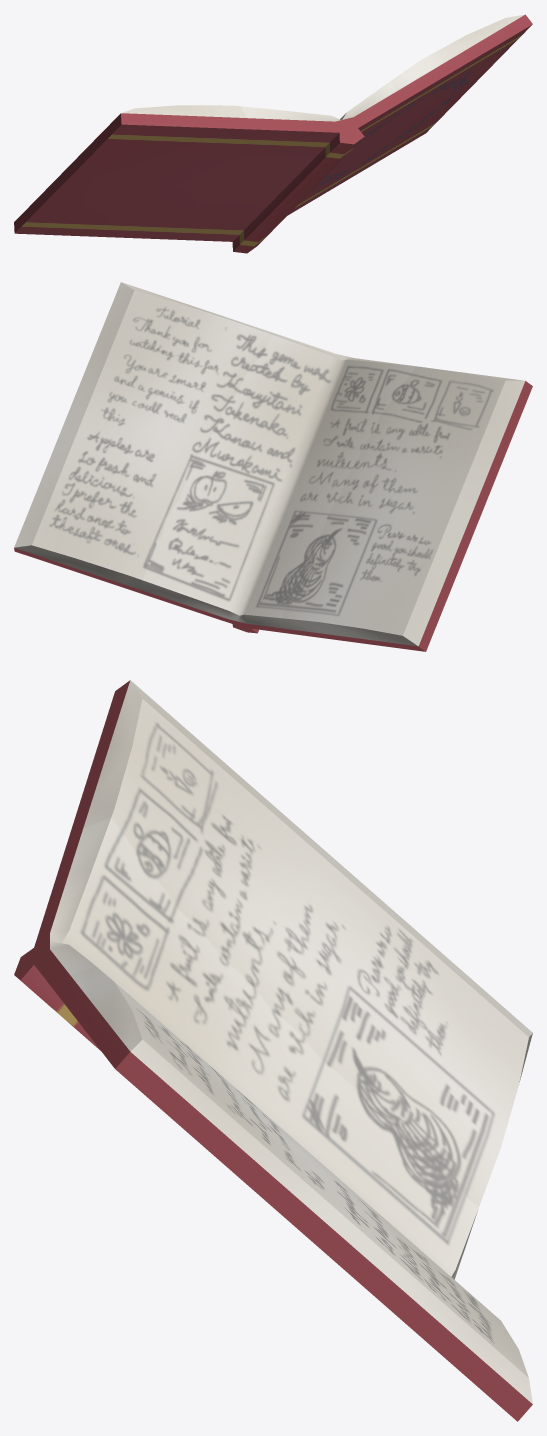
File: book.fbx
3 views of the same model, one above another, from view 1: azimuth 30°, elevation 25°; view 2: azimuth 150°, elevation 25°; view 3: azimuth 270°, elevation 25° (orthographic). The views are drawn at different scales.
Parts seen in each view (by area): view 1: pCube1; view 2: pCube1; view 3: pCube1.
Part boxes in pixels (<box>): pCube1: <box>14,14,532,253</box>; pCube1: <box>14,282,532,651</box>; pCube1: <box>14,680,532,1421</box>.
Bounding box in the file's own units: 79.85 × 45.5 × 46.34.
Materials: 1 (1 with a texture image).
